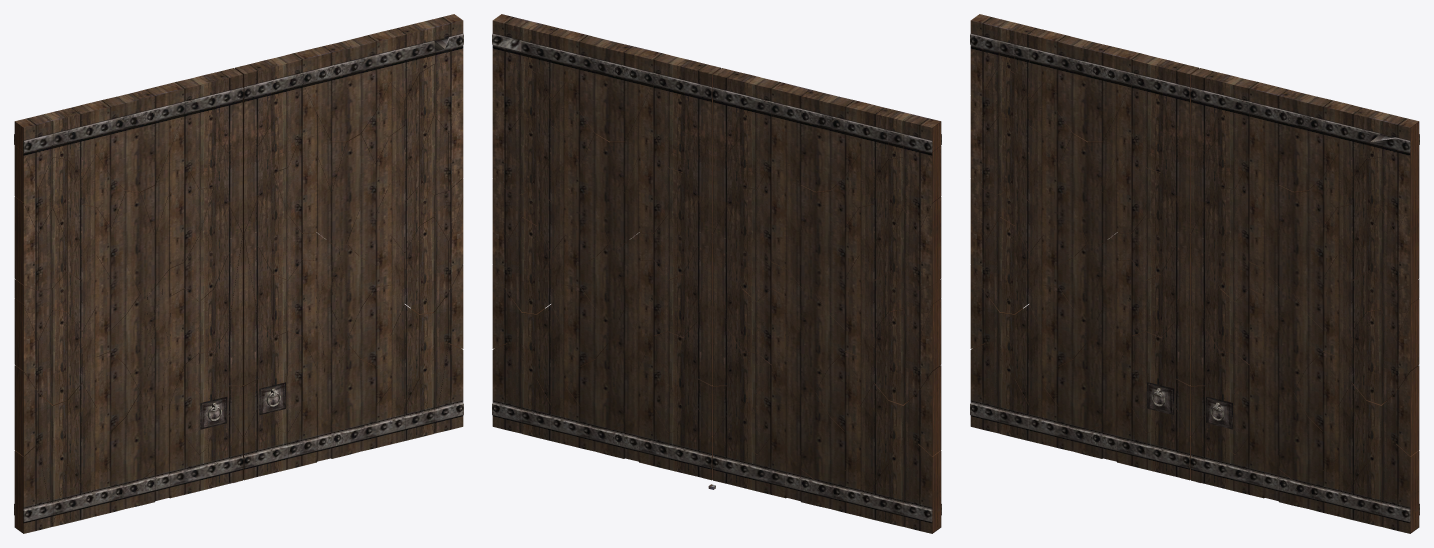
The model's file is b1-middledam-wooddoor_model.fbx.
3 views of the same model, side by side, from view 1: azimuth 30°, elevation 25°; view 2: azimuth 150°, elevation 25°; view 3: azimuth 330°, elevation 25° (orthographic).
Visible parts, largest first — view 1: Object237, Object212, Object219, Object230, Object231, Object218, Object225, Object153, Object291, Object283, Object202, Object163 (+118 smaller); view 2: Object237, Object212, Object219, Object230, Object231, Object218, Object225, Object153, Object291, Object283, Object202, Object163 (+116 smaller); view 3: Object212, Object237, Object230, Object219, Object218, Object231, Object153, Object225, Object147, Object163, Object272, Object283 (+118 smaller).
Boxes of the visible parts, box(x1,y1,x2,y2) form: Object237: box(176, 71, 228, 188); Object212: box(250, 53, 302, 172); Object219: box(293, 43, 346, 141); Object230: box(132, 82, 184, 191); Object231: box(73, 96, 126, 189); Object218: box(352, 28, 405, 132); Object225: box(111, 188, 140, 328); Object153: box(346, 133, 375, 264); Object291: box(14, 444, 52, 533); Object283: box(169, 366, 199, 498); Object202: box(235, 64, 259, 232); Object163: box(287, 337, 317, 469); Object237: box(727, 71, 779, 188); Object212: box(653, 53, 705, 172); Object219: box(609, 43, 662, 141); Object230: box(771, 82, 823, 191); Object231: box(829, 96, 882, 189); Object218: box(550, 28, 603, 132); Object225: box(815, 188, 844, 328); Object153: box(580, 133, 609, 264); Object291: box(903, 444, 941, 533); Object283: box(756, 366, 786, 498); Object202: box(696, 64, 720, 232); Object163: box(638, 337, 668, 469); Object212: box(1205, 71, 1257, 188); Object237: box(1131, 53, 1183, 172); Object230: box(1087, 43, 1140, 141); Object219: box(1249, 82, 1301, 191); Object218: box(1307, 96, 1360, 189); Object231: box(1028, 28, 1081, 132); Object153: box(1293, 188, 1322, 328); Object225: box(1058, 133, 1087, 264); Object147: box(1381, 444, 1419, 533); Object163: box(1234, 366, 1264, 498); Object272: box(1174, 64, 1198, 232); Object283: box(1116, 337, 1146, 469).
Bounding box in the file's own units: 8.7 × 7.84 × 0.729.
